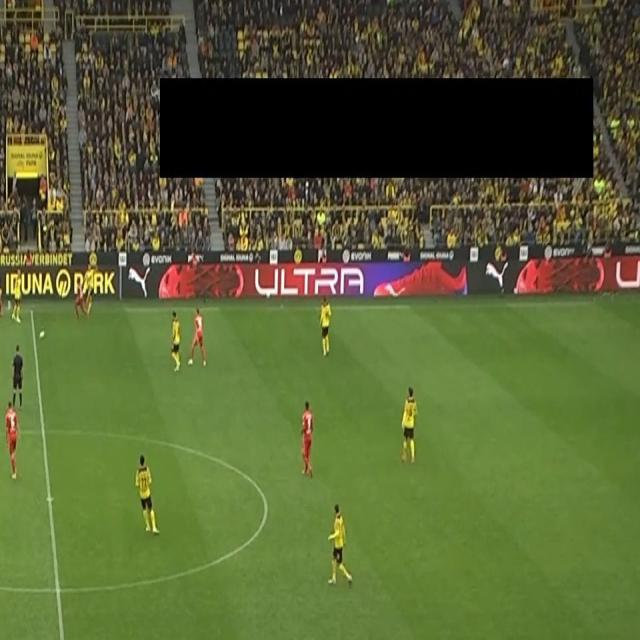ball: (39, 328, 45, 339)
